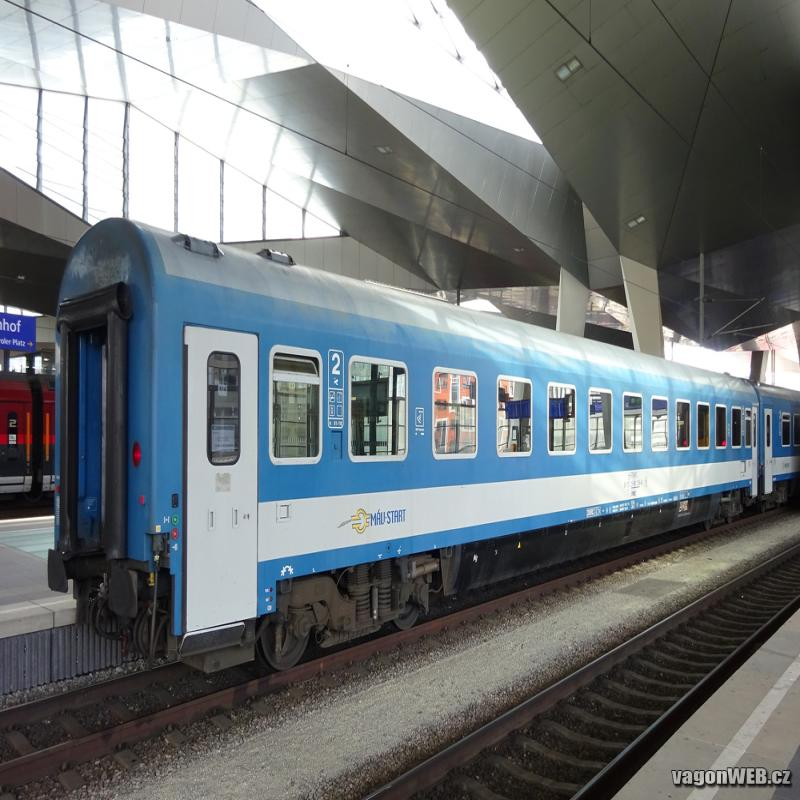train: (53, 216, 760, 702)
